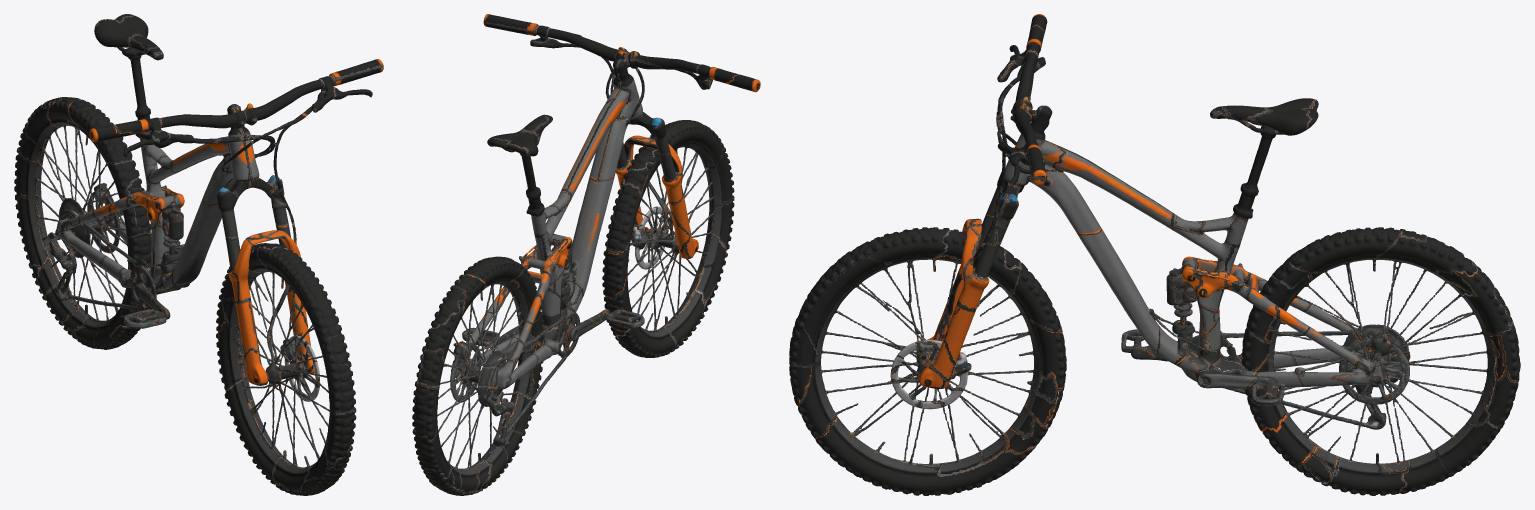
File: water-bottle.glb
3 views of the same model, side by side, from view 1: azimuth 30°, elevation 25°; view 2: azimuth 150°, elevation 25°; view 3: azimuth 270°, elevation 25° (orthographic). The views are drawn at different scales.
Visible parts, largest first — view 1: tripo_node_28e3acdf-9f97-4f6f-9472-b8b7e20f0c93; view 2: tripo_node_28e3acdf-9f97-4f6f-9472-b8b7e20f0c93; view 3: tripo_node_28e3acdf-9f97-4f6f-9472-b8b7e20f0c93.
Boxes of the visible parts, box(x1,y1,x2,y2) form: tripo_node_28e3acdf-9f97-4f6f-9472-b8b7e20f0c93: box(14, 14, 383, 495); tripo_node_28e3acdf-9f97-4f6f-9472-b8b7e20f0c93: box(412, 14, 760, 495); tripo_node_28e3acdf-9f97-4f6f-9472-b8b7e20f0c93: box(789, 14, 1520, 495).
Size of the model in its own units: 0.8229 by 0.9678 by 1.6.
Materials: 1 (1 with a texture image).
